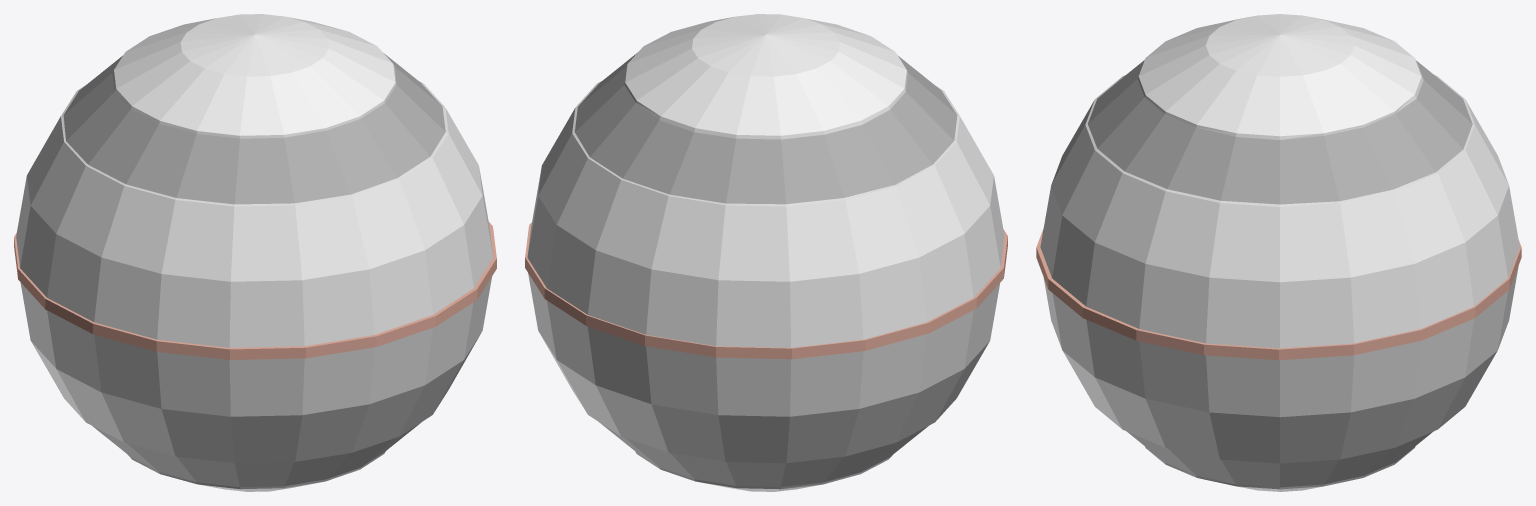
3 views of the same model, side by side, from view 1: azimuth 30°, elevation 25°; view 2: azimuth 150°, elevation 25°; view 3: azimuth 270°, elevation 25° (orthographic).
Visible parts, largest first — view 1: Cylinder_5; view 2: Cylinder_5; view 3: Cylinder_5.
Boxes of the visible parts, left/top/right/bottom form: Cylinder_5: left=14, top=14, right=496, bottom=491; Cylinder_5: left=525, top=14, right=1007, bottom=491; Cylinder_5: left=1036, top=14, right=1521, bottom=491.
Bounding box in the file's own units: 1015 × 1007 × 1015.
